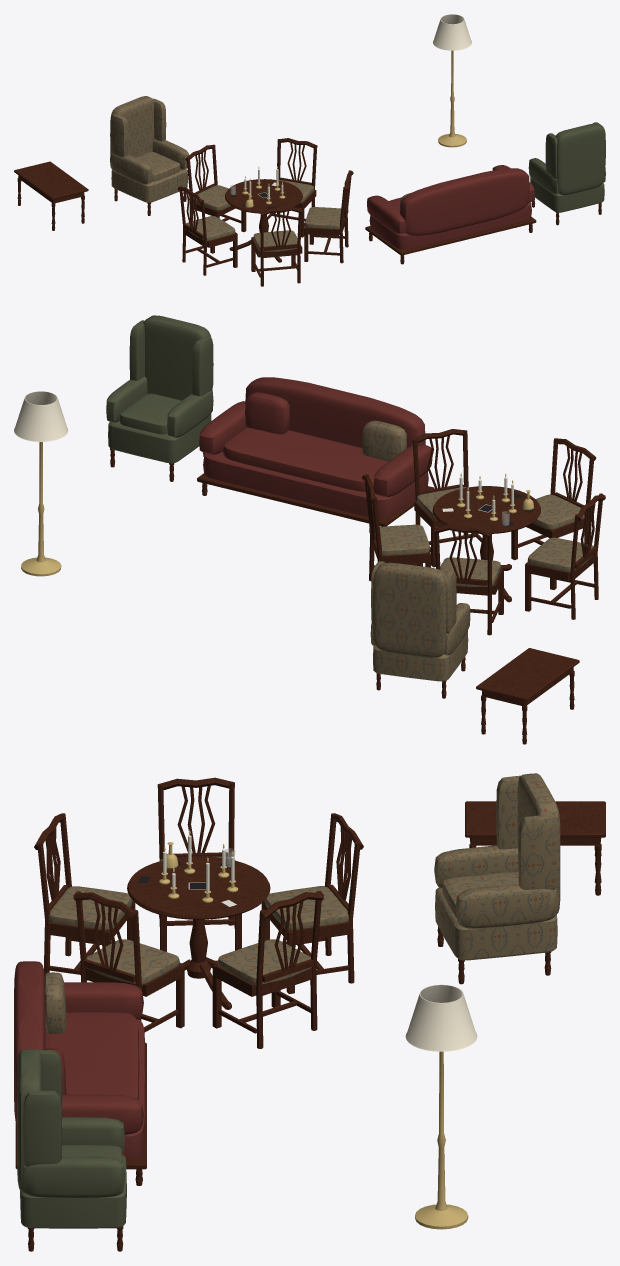
The model's file is room_seance__降灵会布置.gltf.
3 renders of one model, top to bottom at view 1: azimuth 30°, elevation 25°; view 2: azimuth 150°, elevation 25°; view 3: azimuth 270°, elevation 25°, orthographic. The views are drawn at different scales.
Visible parts, largest first — view 1: 客厅·降灵会·推到南墙下的沙发-col, 客厅·降灵会·稍远的空椅子（扶手椅A）-col, 客厅·降灵会·东南角的扶手椅B-col, 客厅·降灵会·第1把椅子-col, 客厅·降灵会·第5把椅子-col, 客厅·降灵会·西北角的茶几-col, 客厅·降灵会·翻面圆桌（打开）-col, 客厅·降灵会·第4把椅子-col, 客厅·降灵会·第2把椅子-col, 客厅·降灵会·挪开的落地灯, 客厅·降灵会·第3把椅子-col, 客厅·降灵会·照片、蜡烛、手铃与卡片; view 2: 客厅·降灵会·推到南墙下的沙发-col, 客厅·降灵会·东南角的扶手椅B-col, 客厅·降灵会·稍远的空椅子（扶手椅A）-col, 客厅·降灵会·第1把椅子-col, 客厅·降灵会·西北角的茶几-col, 客厅·降灵会·翻面圆桌（打开）-col, 客厅·降灵会·第5把椅子-col, 客厅·降灵会·第2把椅子-col, 客厅·降灵会·挪开的落地灯, 客厅·降灵会·第3把椅子-col, 客厅·降灵会·第4把椅子-col, 客厅·降灵会·照片、蜡烛、手铃与卡片; view 3: 客厅·降灵会·稍远的空椅子（扶手椅A）-col, 客厅·降灵会·推到南墙下的沙发-col, 客厅·降灵会·东南角的扶手椅B-col, 客厅·降灵会·第3把椅子-col, 客厅·降灵会·翻面圆桌（打开）-col, 客厅·降灵会·第4把椅子-col, 客厅·降灵会·第2把椅子-col, 客厅·降灵会·第5把椅子-col, 客厅·降灵会·挪开的落地灯, 客厅·降灵会·西北角的茶几-col, 客厅·降灵会·第1把椅子-col, 客厅·降灵会·照片、蜡烛、手铃与卡片.
Part boxes in pixels (x1,y1,x2,y2): 客厅·降灵会·推到南墙下的沙发-col: [365, 165, 536, 264]; 客厅·降灵会·稍远的空椅子（扶手椅A）-col: [110, 96, 188, 215]; 客厅·降灵会·东南角的扶手椅B-col: [528, 122, 605, 225]; 客厅·降灵会·第1把椅子-col: [177, 186, 237, 275]; 客厅·降灵会·第5把椅子-col: [251, 206, 302, 286]; 客厅·降灵会·西北角的茶几-col: [14, 161, 88, 230]; 客厅·降灵会·翻面圆桌（打开）-col: [225, 179, 302, 262]; 客厅·降灵会·第4把椅子-col: [304, 170, 353, 263]; 客厅·降灵会·第2把椅子-col: [185, 144, 246, 231]; 客厅·降灵会·挪开的落地灯: [433, 14, 471, 147]; 客厅·降灵会·第3把椅子-col: [267, 138, 317, 237]; 客厅·降灵会·照片、蜡烛、手铃与卡片: [230, 166, 285, 208]; 客厅·降灵会·推到南墙下的沙发-col: [197, 377, 434, 526]; 客厅·降灵会·东南角的扶手椅B-col: [106, 315, 213, 481]; 客厅·降灵会·稍远的空椅子（扶手椅A）-col: [370, 561, 470, 698]; 客厅·降灵会·第1把椅子-col: [525, 493, 605, 619]; 客厅·降灵会·西北角的茶几-col: [476, 648, 579, 744]; 客厅·降灵会·翻面圆桌（打开）-col: [432, 486, 540, 602]; 客厅·降灵会·第5把椅子-col: [511, 438, 596, 560]; 客厅·降灵会·第2把椅子-col: [434, 524, 503, 635]; 客厅·降灵会·挪开的落地灯: [14, 391, 68, 576]; 客厅·降灵会·第3把椅子-col: [362, 474, 430, 581]; 客厅·降灵会·第4把椅子-col: [412, 429, 482, 567]; 客厅·降灵会·照片、蜡烛、手铃与卡片: [439, 473, 534, 526]; 客厅·降灵会·稍远的空椅子（扶手椅A）-col: [434, 773, 560, 984]; 客厅·降灵会·推到南墙下的沙发-col: [14, 961, 146, 1185]; 客厅·降灵会·东南角的扶手椅B-col: [17, 1049, 126, 1251]; 客厅·降灵会·第3把椅子-col: [212, 891, 323, 1048]; 客厅·降灵会·翻面圆桌（打开）-col: [127, 856, 270, 1009]; 客厅·降灵会·第4把椅子-col: [73, 891, 184, 1032]; 客厅·降灵会·第2把椅子-col: [261, 813, 363, 993]; 客厅·降灵会·第5把椅子-col: [34, 813, 135, 974]; 客厅·降灵会·挪开的落地灯: [405, 984, 477, 1229]; 客厅·降灵会·西北角的茶几-col: [465, 801, 605, 895]; 客厅·降灵会·第1把椅子-col: [157, 777, 241, 951]; 客厅·降灵会·照片、蜡烛、手铃与卡片: [138, 830, 238, 909].
Bounding box in the file's own units: 5.9 × 1.58 × 3.78.
Materials: 12 (2 with a texture image).
